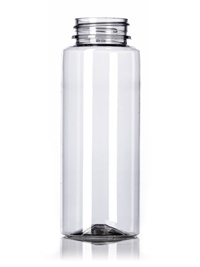emptybottle: (61, 17, 140, 243)
